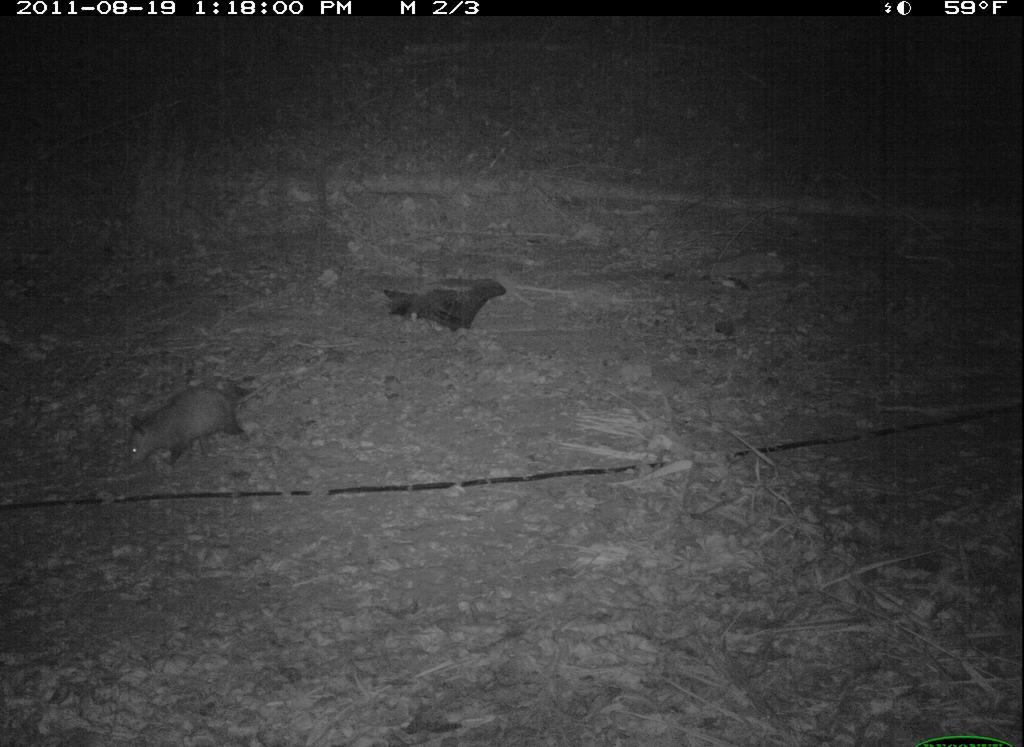opossum: (104, 377, 308, 481)
